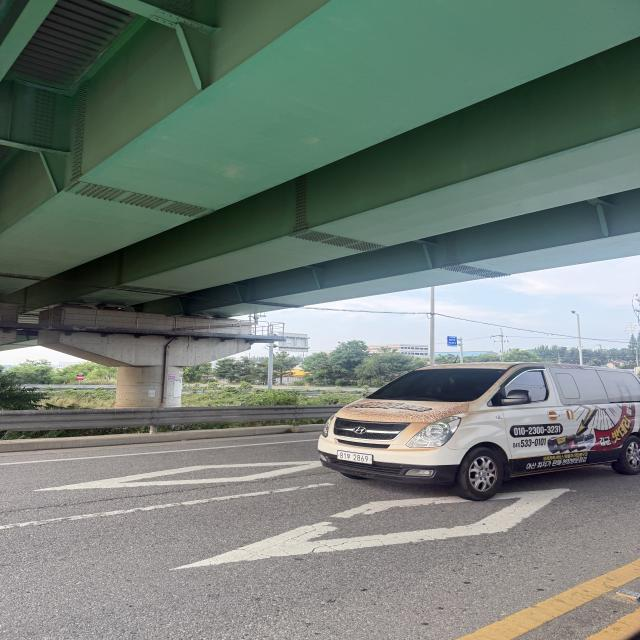car: (310, 353, 640, 503)
